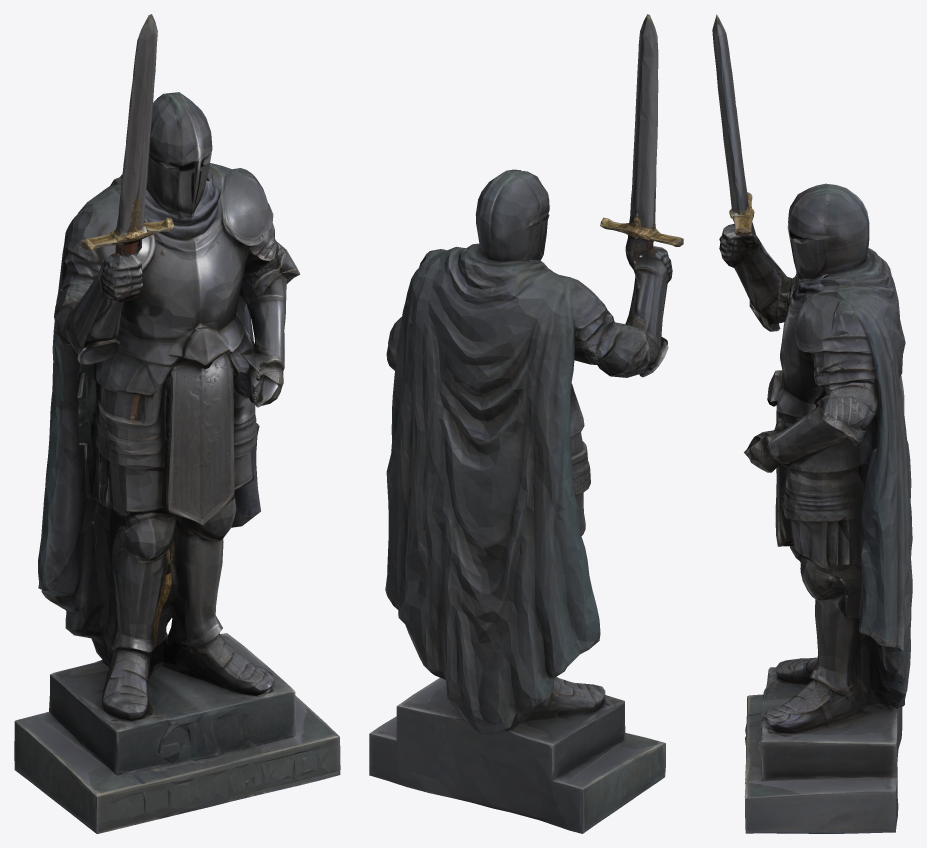
The model's file is a_knight_statue_holdi_0508090341_texture.fbx.
3 renders of one model, left to right at view 1: azimuth 30°, elevation 25°; view 2: azimuth 150°, elevation 25°; view 3: azimuth 270°, elevation 25°, orthographic. The views are drawn at different scales.
Visible parts, largest first — view 1: temp; view 2: temp; view 3: temp.
Boxes of the visible parts, <box> form: temp: <box>14,14,340,833</box>; temp: <box>369,14,683,833</box>; temp: <box>712,14,912,833</box>.
Size of the model in its own units: 68.06 by 199 by 49.46.
Materials: 1 (1 with a texture image).
